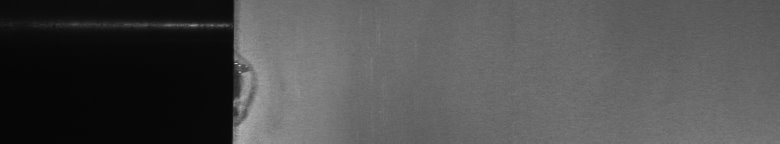hb: (244, 54, 263, 124)
